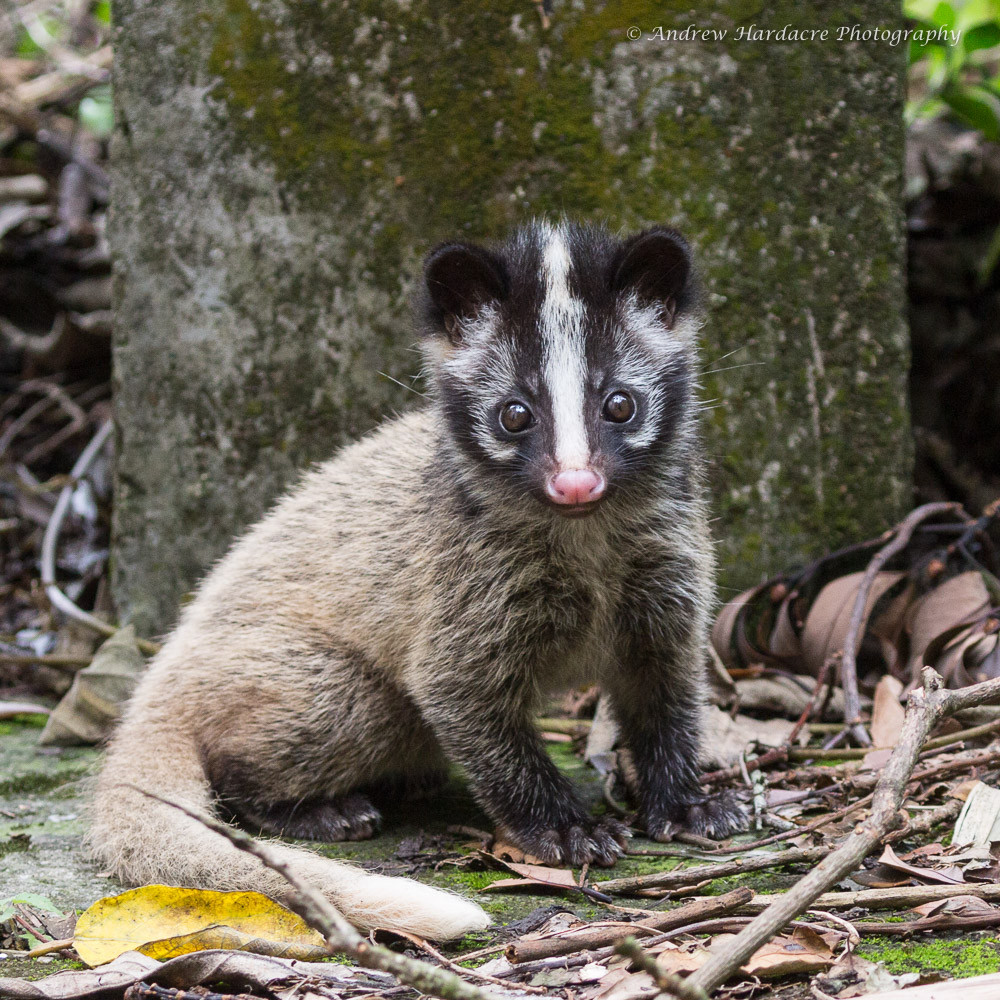Civet: (153, 174, 748, 921)
